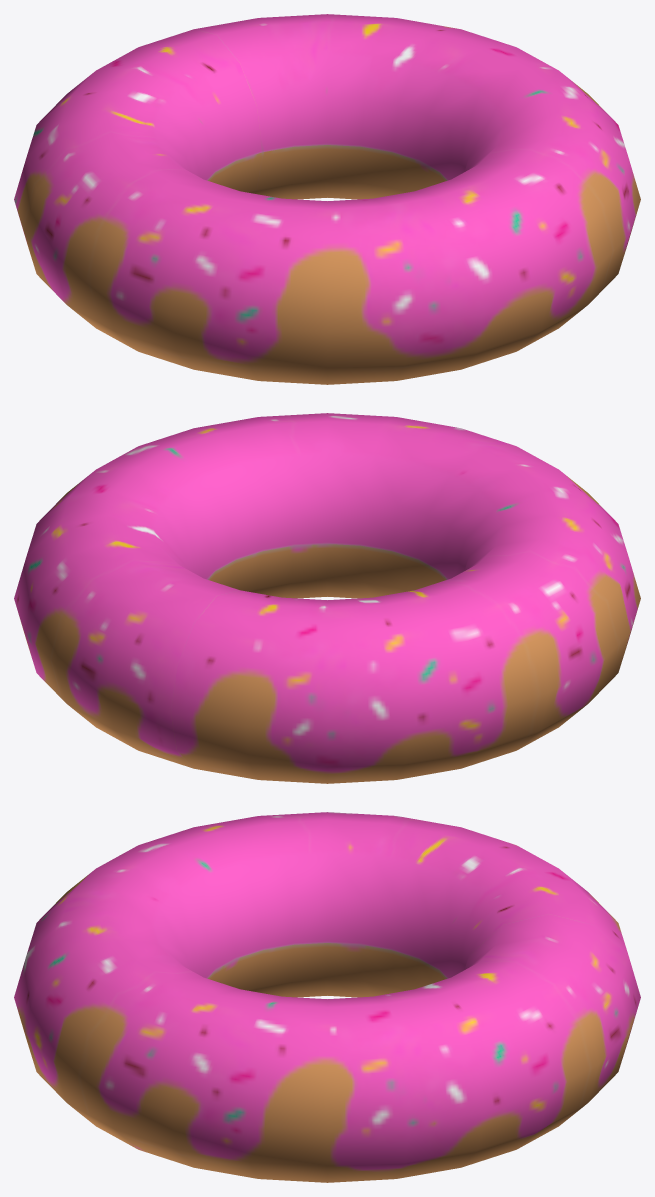
Rendered from DONUT.fbx.
The picture shows the model from 3 angles, top to bottom: view 1: azimuth 30°, elevation 25°; view 2: azimuth 150°, elevation 25°; view 3: azimuth 270°, elevation 25°; orthographic projection.
Visible parts, largest first — view 1: FLOAT_DONUT; view 2: FLOAT_DONUT; view 3: FLOAT_DONUT.
Boxes of the visible parts, bbox=[...] form: FLOAT_DONUT: bbox=[14, 14, 640, 384]; FLOAT_DONUT: bbox=[14, 413, 640, 783]; FLOAT_DONUT: bbox=[14, 812, 640, 1182].
Size of the model in its own units: 170 by 50 by 170.
